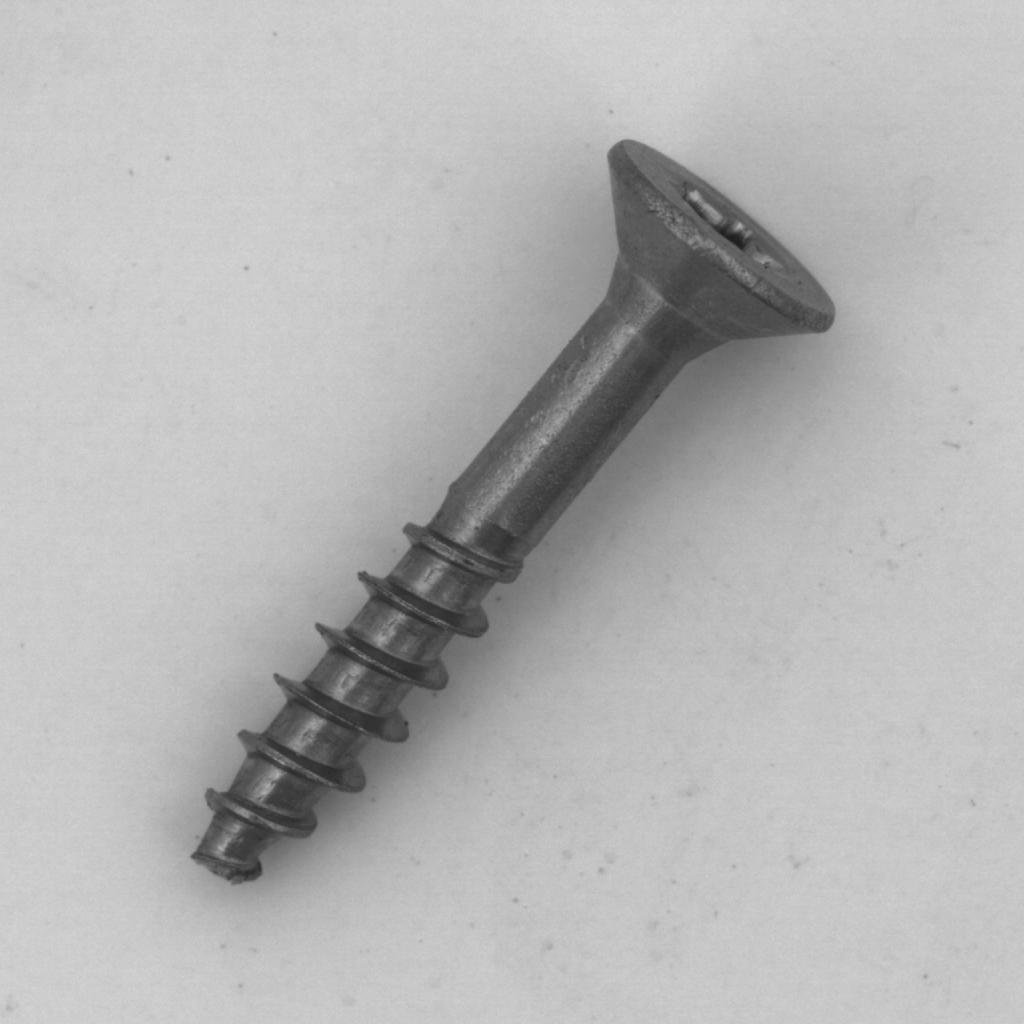bad: (166, 128, 873, 907)
